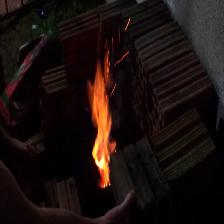fire: (80, 55, 126, 190)
